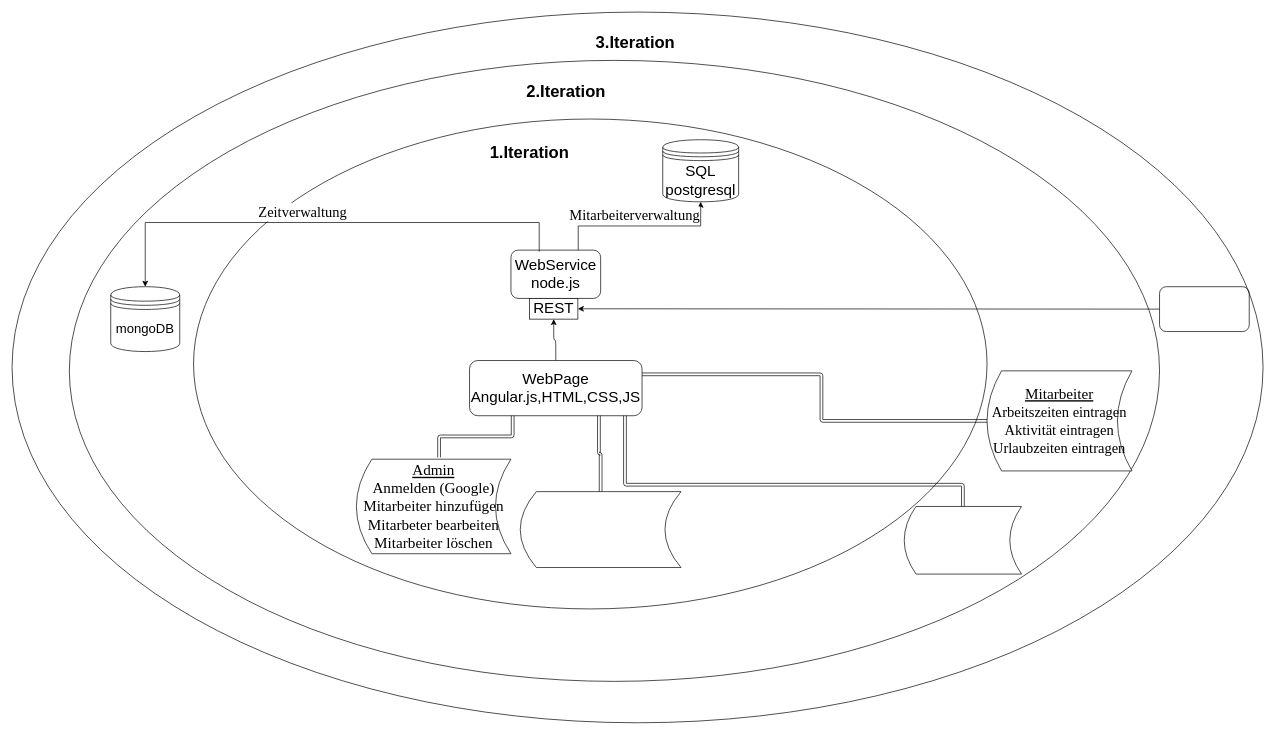
Image size: 1275x735. Some labels were removed from this diagram. The shapes that lost their labels are listed below. From the top down, each one's centre as x and y in pixels, then its label:
At (x=1204, y=309): "Android/IOS Xamarin".
At (x=600, y=529): "Mitarbeiter Anmelden (Google)".
At (x=963, y=540): "Campleiter Arbeitszeiten validieren".
